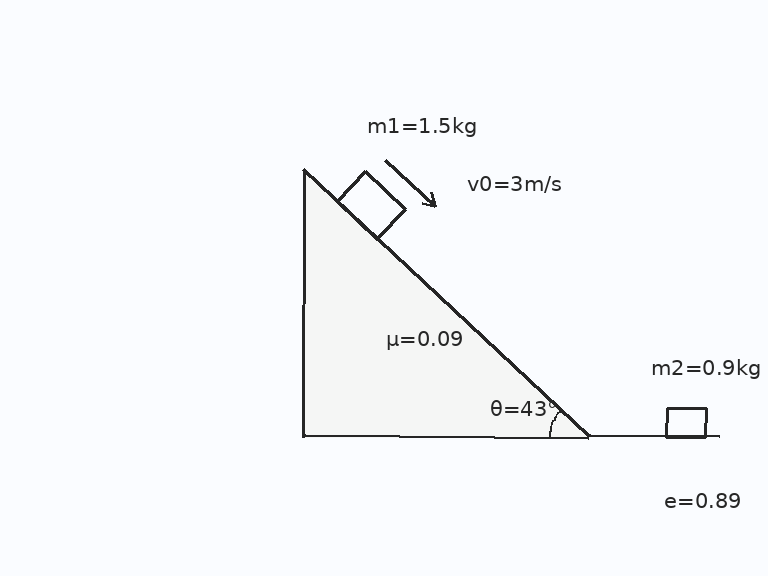block: (334, 169, 407, 240), (664, 406, 708, 439)
ramp: (303, 169, 592, 439)
